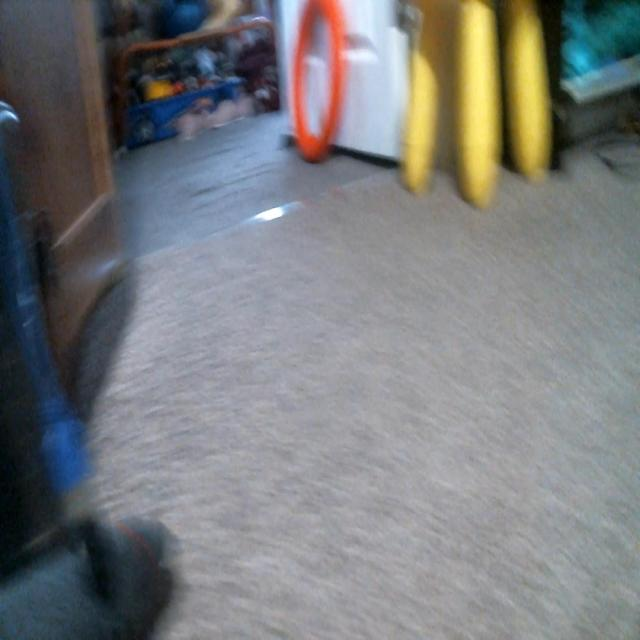note: (289, 0, 346, 168)
